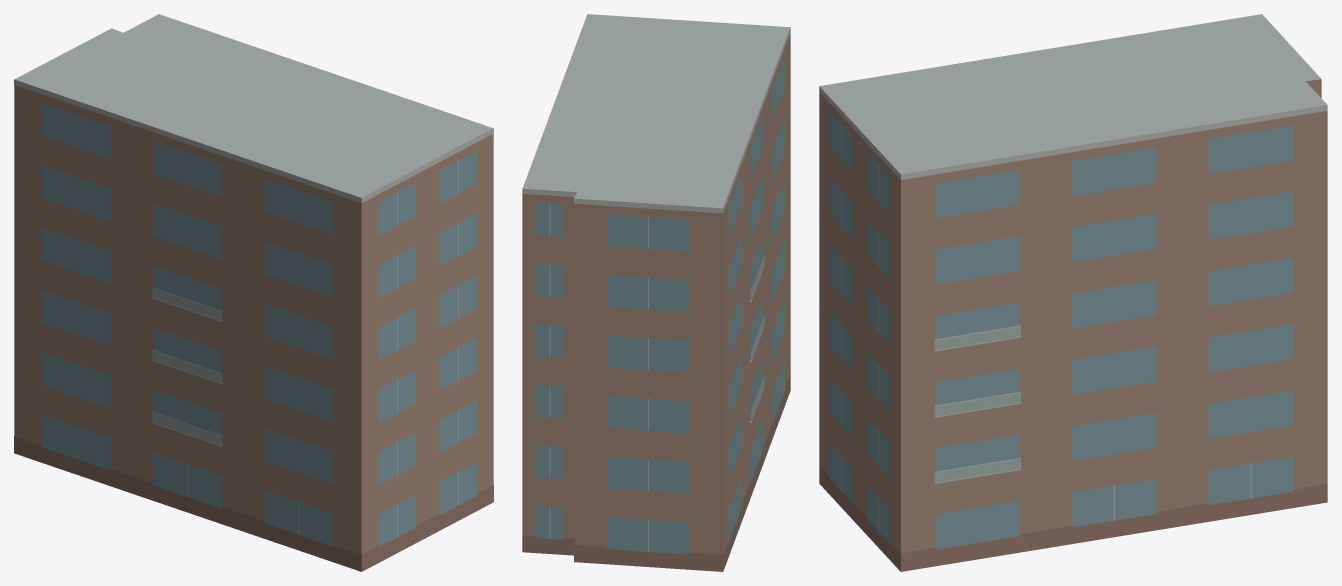
File: survey-upis-32905893.glb
3 views of the same model, side by side, from view 1: azimuth 30°, elevation 25°; view 2: azimuth 150°, elevation 25°; view 3: azimuth 270°, elevation 25° (orthographic). The views are drawn at different scales.
Visible parts, largest first — view 1: survey-upis-32905893.tmp; view 2: survey-upis-32905893.tmp; view 3: survey-upis-32905893.tmp.
Boxes of the visible parts, x1,y1,x2,y2 form: survey-upis-32905893.tmp: [14, 14, 493, 571]; survey-upis-32905893.tmp: [522, 14, 790, 571]; survey-upis-32905893.tmp: [819, 14, 1327, 571].
Bounding box in the file's own units: 15.04 × 17.35 × 20.13.
